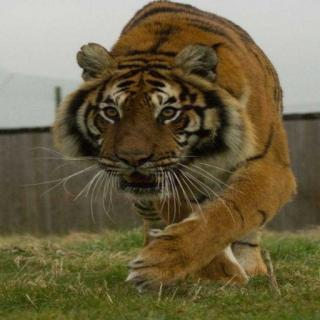Tiger: (30, 0, 320, 281)
